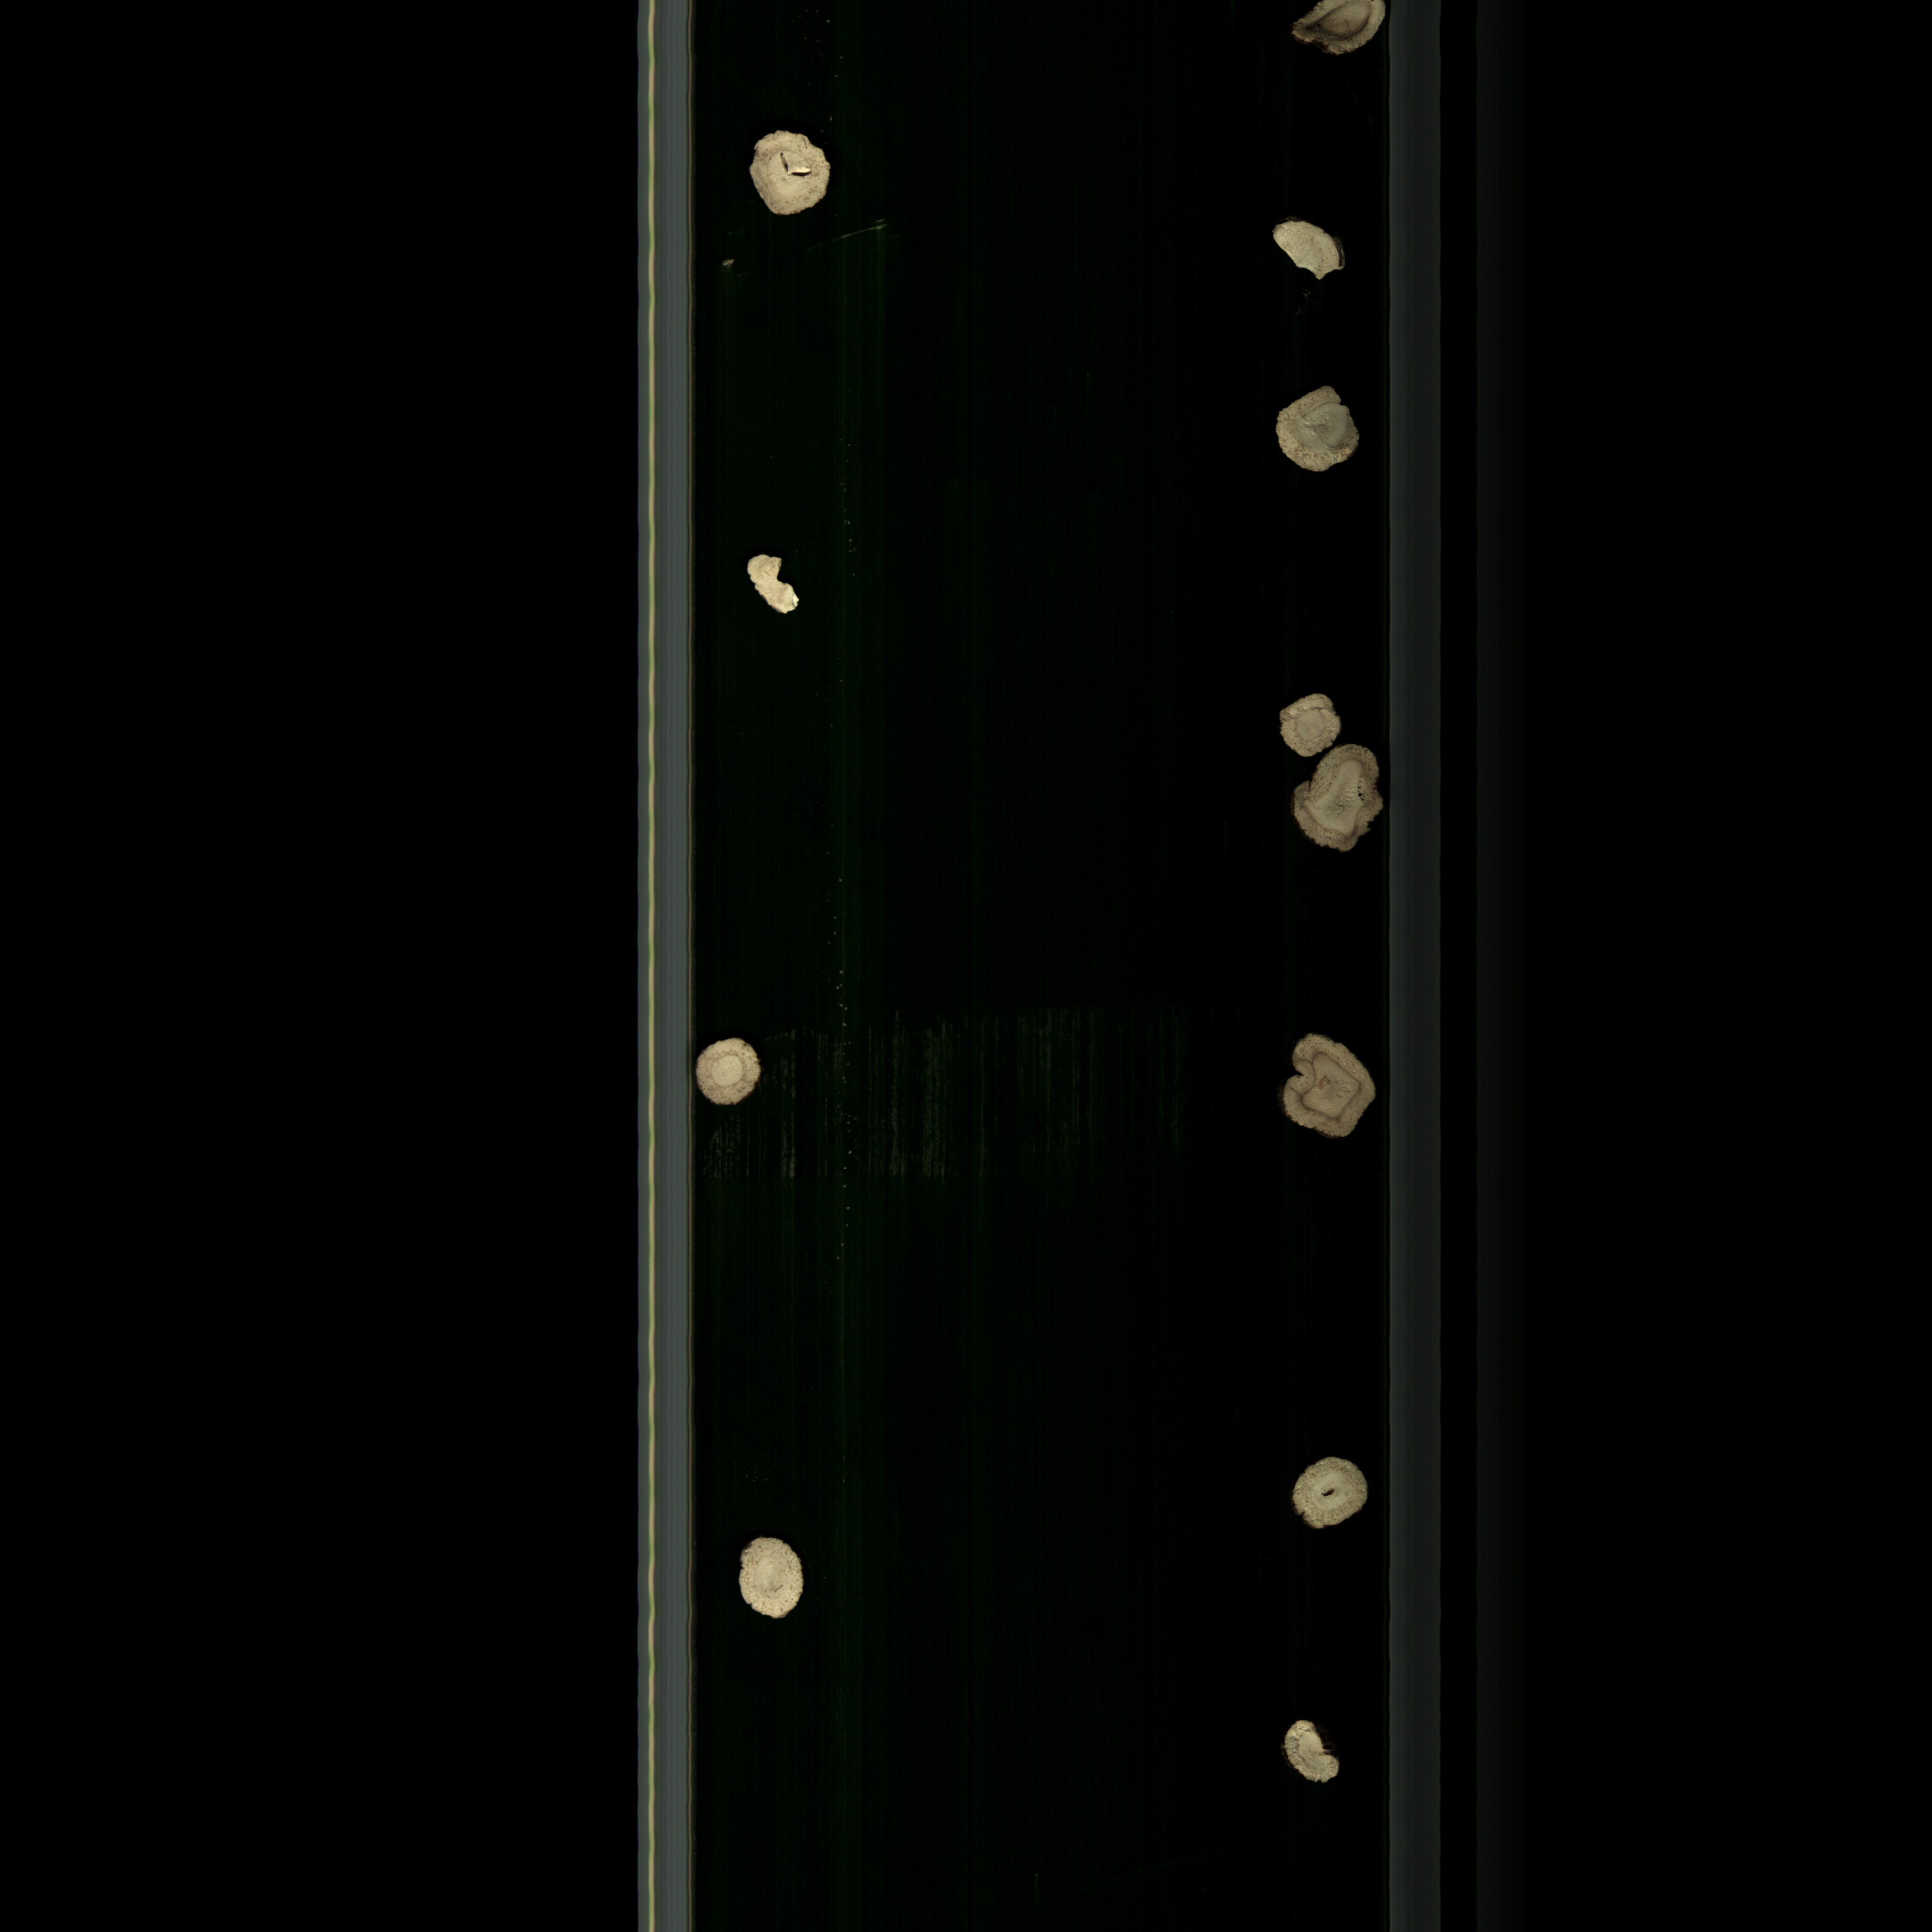debris: (1267, 375, 1361, 483)
distortion: (1279, 1028, 1378, 1148)
dreg: (1253, 212, 1353, 290), (1277, 1709, 1357, 1794), (741, 547, 810, 630)
hole: (738, 126, 839, 230), (1277, 1447, 1378, 1534)
moldy: (1281, 741, 1384, 869), (1283, 0, 1398, 62)
